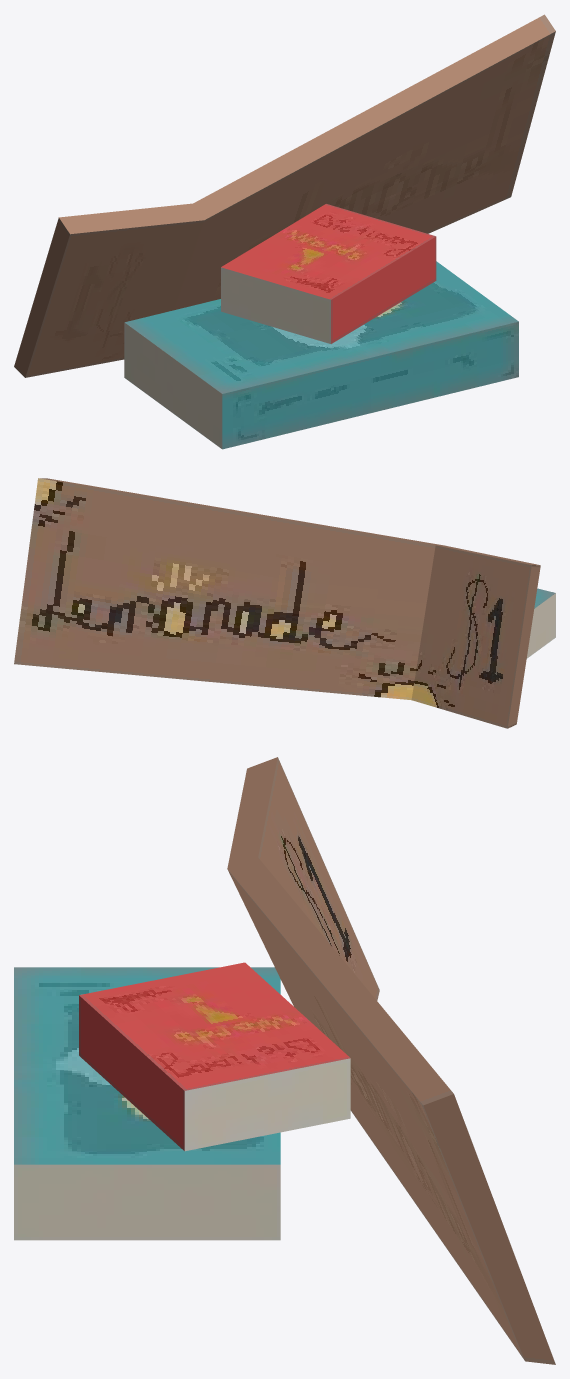
File: lemonade.glb
3 renders of one model, top to bottom at view 1: azimuth 30°, elevation 25°; view 2: azimuth 150°, elevation 25°; view 3: azimuth 270°, elevation 25°, orthographic. The views are drawn at different scales.
Parts seen in each view (by area): view 1: Object_5, Object_9, Object_7; view 2: Object_5, Object_9; view 3: Object_5, Object_9, Object_7.
Part boxes in pixels (left/top/right/bottom): Object_5: left=14, top=14, right=555, bottom=377; Object_9: left=124, top=261, right=518, bottom=449; Object_7: left=221, top=204, right=436, bottom=343; Object_5: left=14, top=478, right=540, bottom=728; Object_9: left=526, top=588, right=555, bottom=658; Object_5: left=227, top=757, right=555, bottom=1364; Object_9: left=14, top=967, right=280, bottom=1240; Object_7: left=79, top=962, right=350, bottom=1151.
Bounding box in the file's own units: 1.65 × 0.5708 × 1.02.
3 materials, 3 textured.
